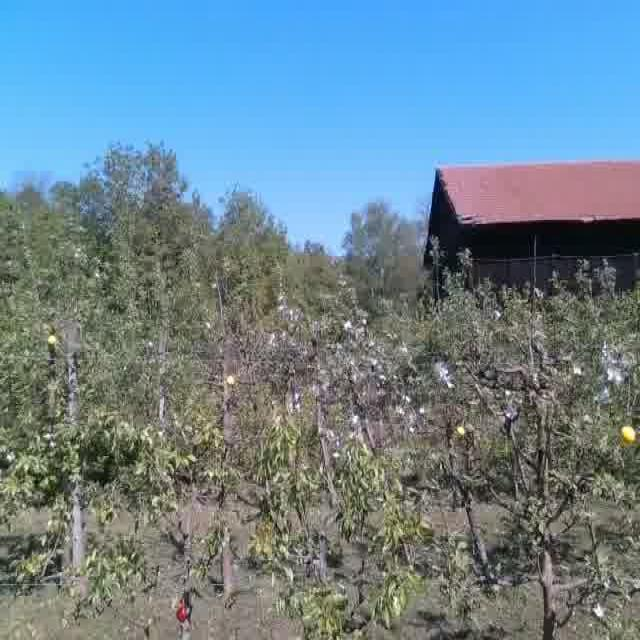red: (176, 596, 195, 624)
yellow: (618, 422, 638, 444), (451, 424, 468, 442), (225, 373, 240, 388), (49, 335, 61, 349)
